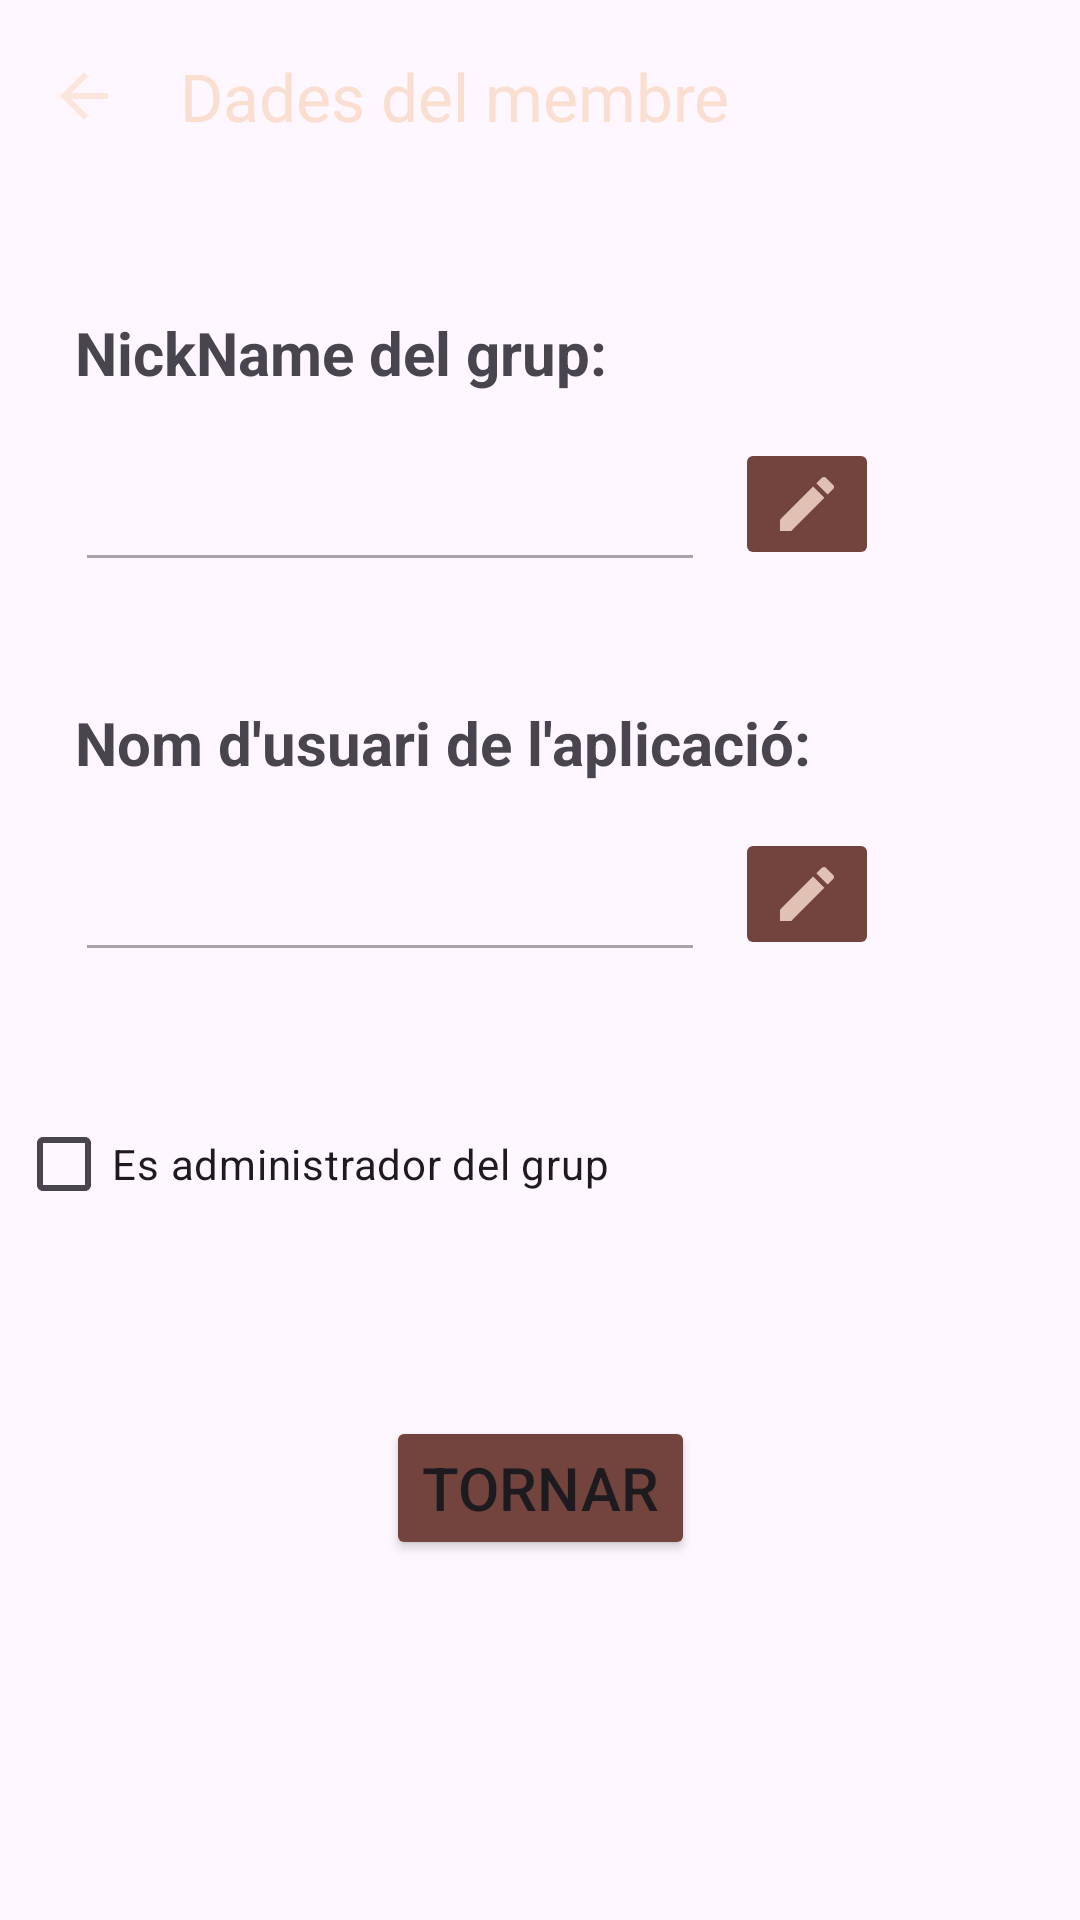

Locate icon controls on the screen. Image size 1080w x 1920h, boxes as (x1, y1, x2, y2).
edit: (747, 456, 867, 552), (747, 846, 867, 942)
